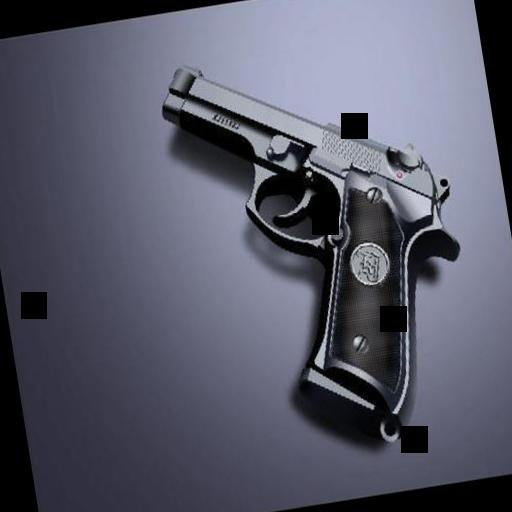Handgun: (142, 22, 488, 464)
